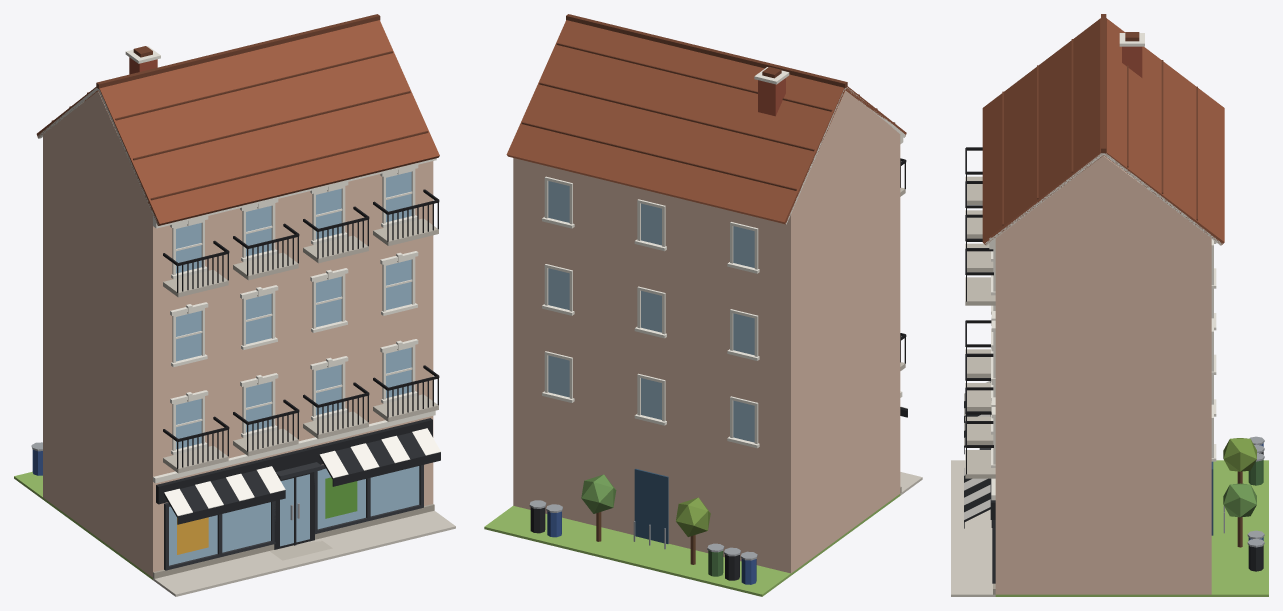
Rendered from Blok_duz_4k_5_Hafif.fbx.
The picture shows the model from 3 angles, left to right: view 1: azimuth 30°, elevation 25°; view 2: azimuth 150°, elevation 25°; view 3: azimuth 270°, elevation 25°; orthographic projection.
Parts seen in each view (by area): view 1: Blok_duz_4k_5_Hafif; view 2: Blok_duz_4k_5_Hafif; view 3: Blok_duz_4k_5_Hafif.
Part boxes in pixels (left/top/right/bottom): Blok_duz_4k_5_Hafif: left=14, top=14, right=455, bottom=596; Blok_duz_4k_5_Hafif: left=484, top=14, right=922, bottom=596; Blok_duz_4k_5_Hafif: left=951, top=14, right=1268, bottom=596.
Bounding box in the file's own units: 10.04 × 15.9 × 10.
